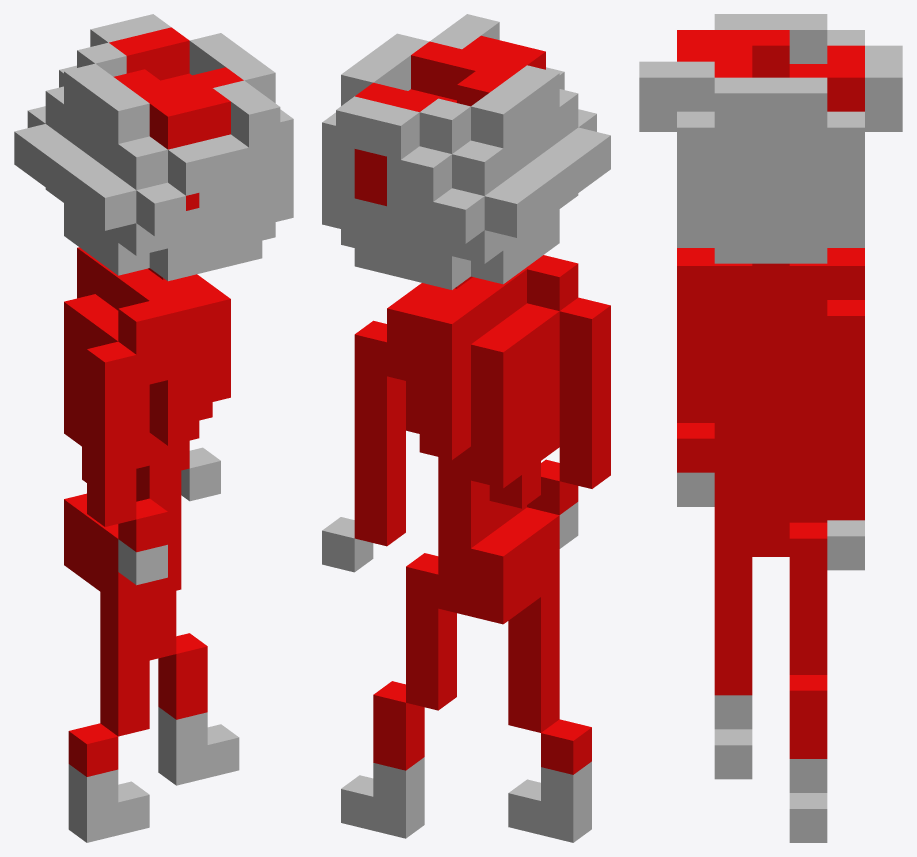
The model's file is idle_03.fbx.
3 renders of one model, left to right at view 1: azimuth 30°, elevation 25°; view 2: azimuth 150°, elevation 25°; view 3: azimuth 270°, elevation 25°, orthographic. The views are drawn at different scales.
Visible parts, largest first — view 1: Untitled, Untitled.002, Untitled.001; view 2: Untitled, Untitled.002, Untitled.001; view 3: Untitled, Untitled.002, Untitled.001.
Part boxes in pixels (x1=…): Untitled: x1=64, y1=27, x2=243, y2=776; Untitled.002: x1=14, y1=14, x2=293, y2=842; Untitled.001: x1=64, y1=104, x2=293, y2=248; Untitled: x1=354, y1=35, x2=610, y2=774; Untitled.002: x1=322, y1=14, x2=610, y2=842; Untitled.001: x1=322, y1=107, x2=559, y2=255; Untitled: x1=677, y1=30, x2=864, y2=758; Untitled.002: x1=639, y1=14, x2=902, y2=842; Untitled.001: x1=677, y1=127, x2=864, y2=229.
Size of the model in its own units: 60 by 220 by 70.
